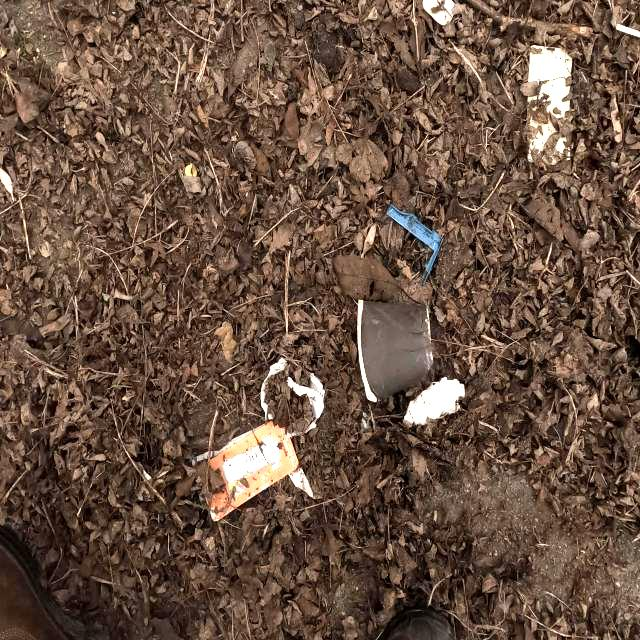Coffee Cup: (348, 291, 439, 404)
